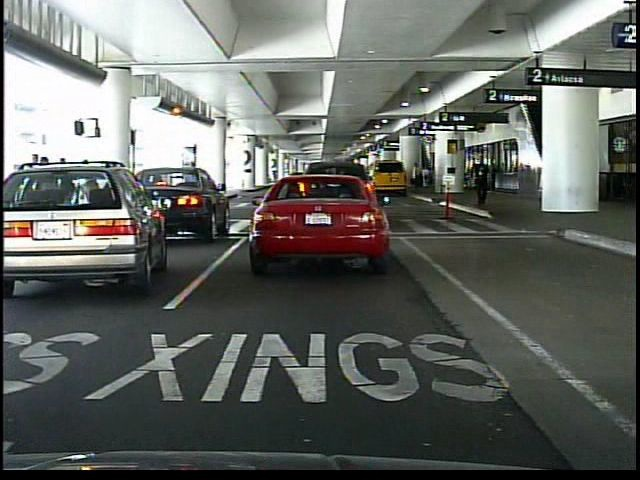person: (31, 147, 50, 232), (185, 158, 208, 218), (319, 157, 338, 213), (473, 156, 492, 207), (410, 158, 423, 194)
